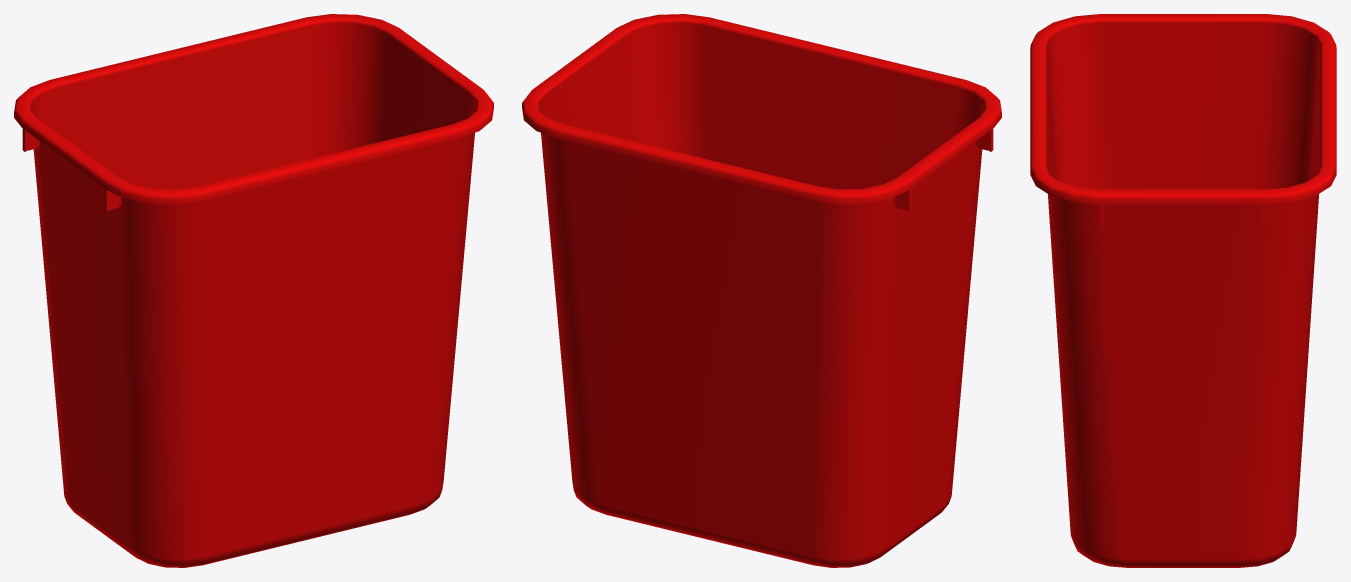
The model's file is thorkea_garbage_bins_grp.fbx.
3 renders of one model, left to right at view 1: azimuth 30°, elevation 25°; view 2: azimuth 150°, elevation 25°; view 3: azimuth 270°, elevation 25°, orthographic.
Visible parts, largest first — view 1: thorkea_garbage_bin_ai2_1; view 2: thorkea_garbage_bin_ai2_1; view 3: thorkea_garbage_bin_ai2_1.
Boxes of the visible parts, x1,y1,x2,y2 form: thorkea_garbage_bin_ai2_1: (14, 14, 493, 567); thorkea_garbage_bin_ai2_1: (522, 14, 1001, 567); thorkea_garbage_bin_ai2_1: (1030, 14, 1336, 567).
Size of the model in its own units: 37.75 by 38.08 by 26.7.
